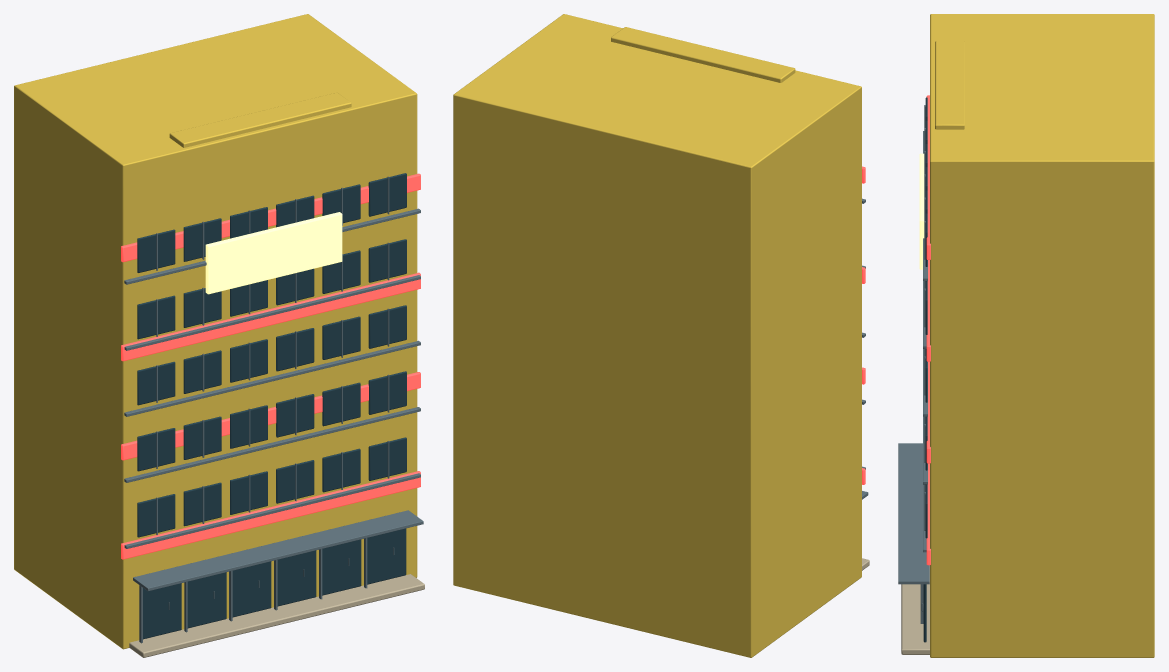
File: discount_hall.glb
3 views of the same model, side by side, from view 1: azimuth 30°, elevation 25°; view 2: azimuth 150°, elevation 25°; view 3: azimuth 270°, elevation 25° (orthographic). The views are drawn at different scales.
Visible parts, largest first — view 1: Detail.discount_hall.Yellow, Detail.discount_hall.Detail.Glass, Detail.discount_hall.Detail.Metal, Detail.discount_hall.Red, Detail.discount_hall.Marquee, Detail.discount_hall.Detail.Stone; view 2: Detail.discount_hall.Yellow; view 3: Detail.discount_hall.Yellow, Detail.discount_hall.Detail.Metal, Detail.discount_hall.Detail.Stone, Detail.discount_hall.Red, Detail.discount_hall.Detail.Glass, Detail.discount_hall.Marquee.
Boxes of the visible parts, bbox=[...] form: Detail.discount_hall.Yellow: bbox=[14, 14, 417, 649]; Detail.discount_hall.Detail.Glass: bbox=[137, 173, 406, 639]; Detail.discount_hall.Detail.Metal: bbox=[124, 176, 423, 643]; Detail.discount_hall.Red: bbox=[121, 173, 420, 559]; Detail.discount_hall.Marquee: bbox=[205, 212, 342, 294]; Detail.discount_hall.Detail.Stone: bbox=[129, 574, 424, 657]; Detail.discount_hall.Yellow: bbox=[453, 14, 861, 657]; Detail.discount_hall.Yellow: bbox=[930, 14, 1154, 657]; Detail.discount_hall.Detail.Metal: bbox=[898, 105, 929, 623]; Detail.discount_hall.Detail.Stone: bbox=[901, 565, 929, 654]; Detail.discount_hall.Red: bbox=[926, 95, 930, 565]; Detail.discount_hall.Detail.Glass: bbox=[923, 97, 927, 642]; Detail.discount_hall.Marquee: bbox=[919, 153, 924, 269].
Size of the model in its own units: 14.2 by 22.2 by 10.28.
